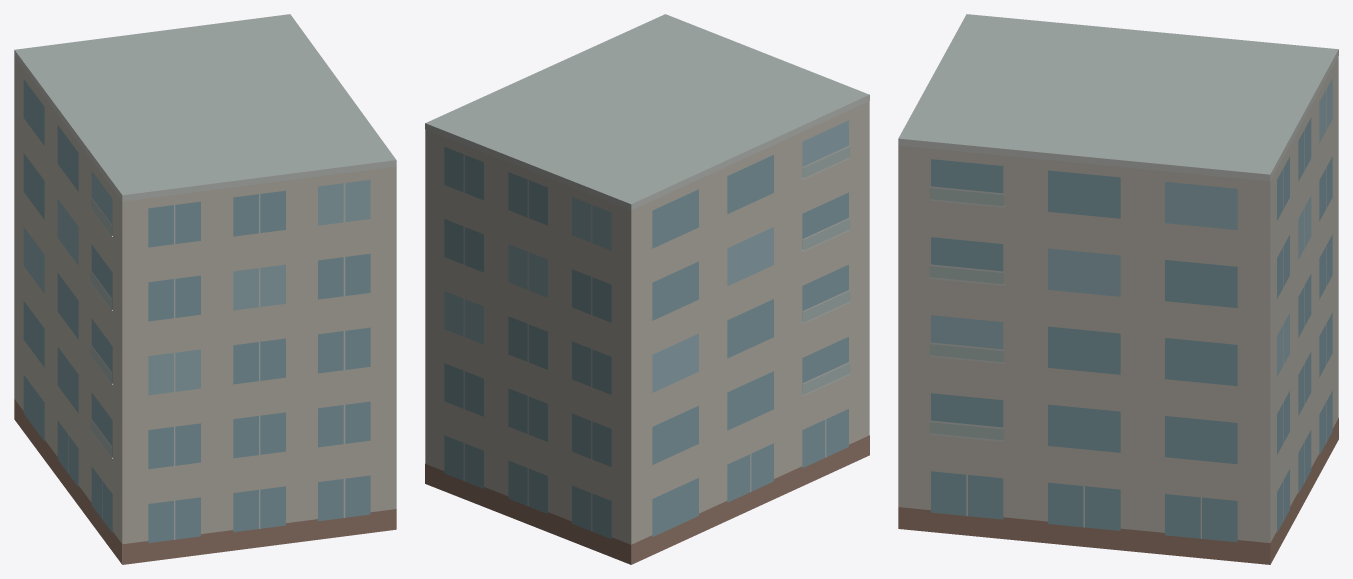
The model's file is survey-upis-32992771.glb.
3 views of the same model, side by side, from view 1: azimuth 30°, elevation 25°; view 2: azimuth 150°, elevation 25°; view 3: azimuth 270°, elevation 25° (orthographic). The views are drawn at different scales.
Visible parts, largest first — view 1: survey-upis-32992771.tmp; view 2: survey-upis-32992771.tmp; view 3: survey-upis-32992771.tmp.
Part boxes in pixels (box(x1,y1,x2,y2)): survey-upis-32992771.tmp: box(14, 14, 396, 564); survey-upis-32992771.tmp: box(425, 14, 869, 564); survey-upis-32992771.tmp: box(898, 14, 1338, 564).
Size of the model in its own units: 12.46 by 14.1 by 14.44.
